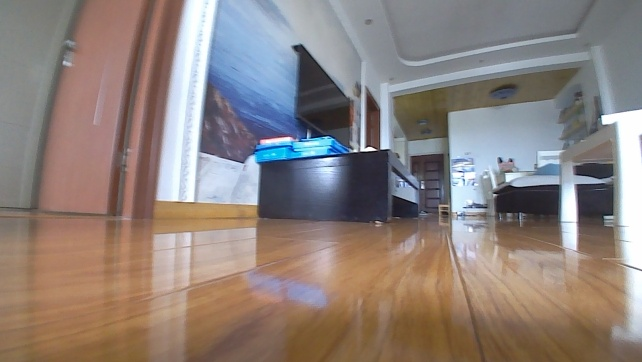TV_stand: (252, 144, 422, 225)
door_anno: (34, 0, 178, 220), (408, 154, 447, 215)
sofa1: (488, 158, 615, 225)
